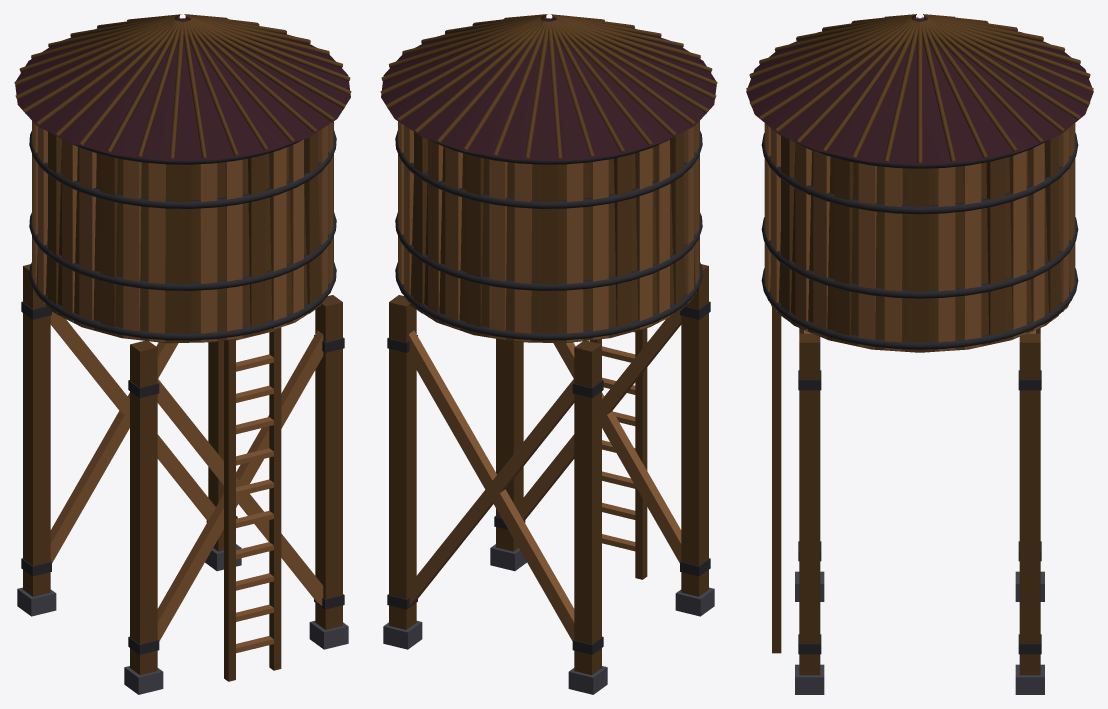
The model's file is mia-water_tower.glb.
3 views of the same model, side by side, from view 1: azimuth 30°, elevation 25°; view 2: azimuth 150°, elevation 25°; view 3: azimuth 270°, elevation 25° (orthographic). The views are drawn at different scales.
Parts seen in each view (by area): view 1: Body_wood, Body_oak, Body_dark, Body_iron, Body_stone; view 2: Body_wood, Body_oak, Body_dark, Body_iron, Body_stone; view 3: Body_wood, Body_oak, Body_dark, Body_iron, Body_stone.
Part boxes in pixels (x1,y1,x2,y2): Body_wood: (14,14,351,681); Body_oak: (32,121,333,653); Body_dark: (15,18,350,160); Body_iron: (21,130,344,654); Body_stone: (17,544,348,694); Body_wood: (380,14,717,675); Body_oak: (398,121,699,640); Body_dark: (381,18,716,160); Body_iron: (387,130,710,654); Body_stone: (383,544,714,694); Body_wood: (746,14,1093,675); Body_oak: (765,123,1074,351); Body_dark: (746,18,1093,165); Body_iron: (761,133,1078,654); Body_stone: (795,571,1044,694).
Size of the model in its own units: 2.84 by 5.63 by 2.84.
